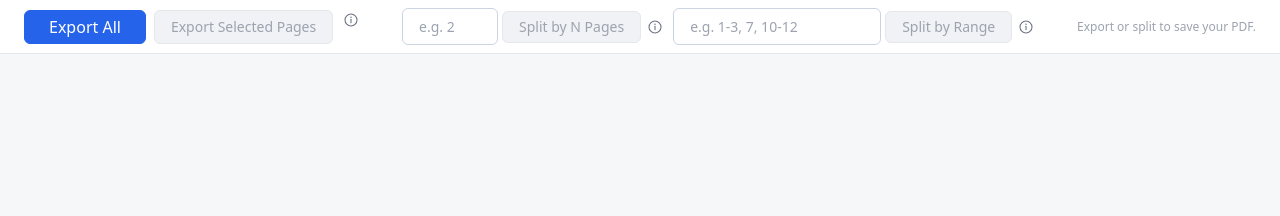
Test case: Toolbar — info icon (InfoTooltip) placement › reveals the splitByRange help copy only after its icon is activated
Click the button named "Help: Split by range" at (1026, 26), box [1016, 16, 1036, 36]
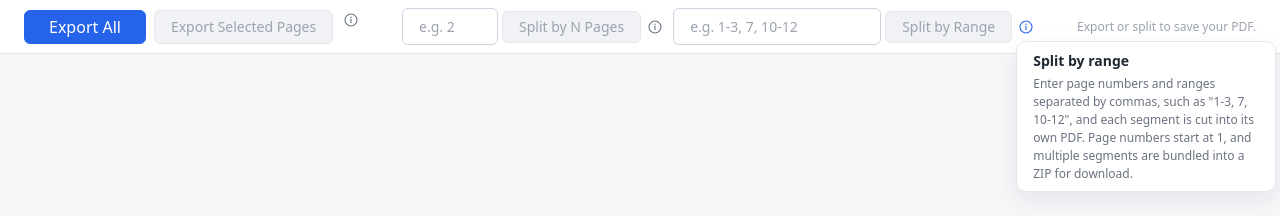
expect the text "Enter page numbers and ranges separated by commas, such as \"1-3, 7, 10-12\", and each segment is cut into its own PDF. Pa" is shown: met, box [1033, 74, 1254, 182]
